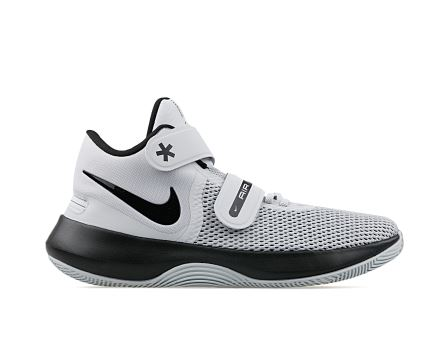nike: (83, 168, 183, 228)
